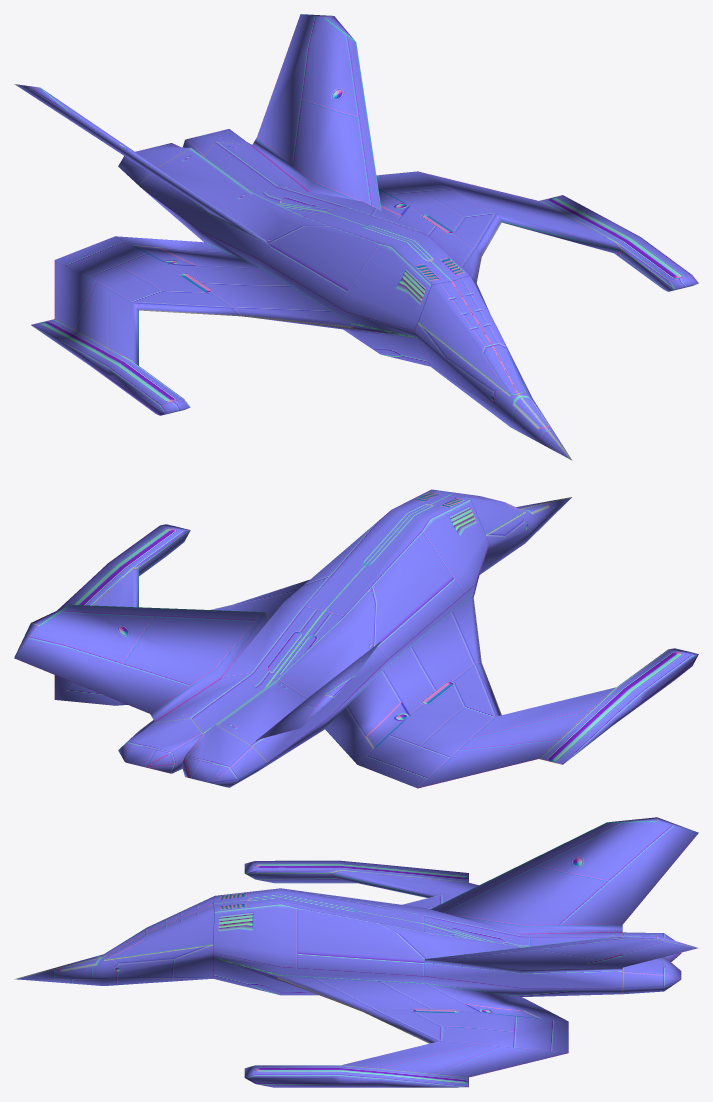
The model's file is Figther.fbx.
The picture shows the model from 3 angles, top to bottom: view 1: azimuth 30°, elevation 25°; view 2: azimuth 150°, elevation 25°; view 3: azimuth 270°, elevation 25°; orthographic projection. The views are drawn at different scales.
Parts seen in each view (by area): view 1: Figther; view 2: Figther; view 3: Figther.
Boxes of the visible parts, <box> form: Figther: <box>14,14,698,460</box>; Figther: <box>14,489,698,788</box>; Figther: <box>14,817,698,1087</box>.
Size of the model in its own units: 220 by 50.23 by 297.
